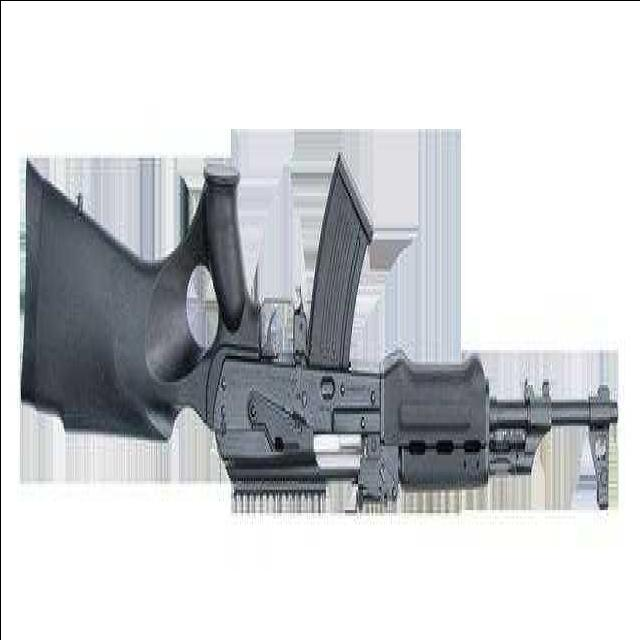heavyweapon: (19, 129, 626, 569)
